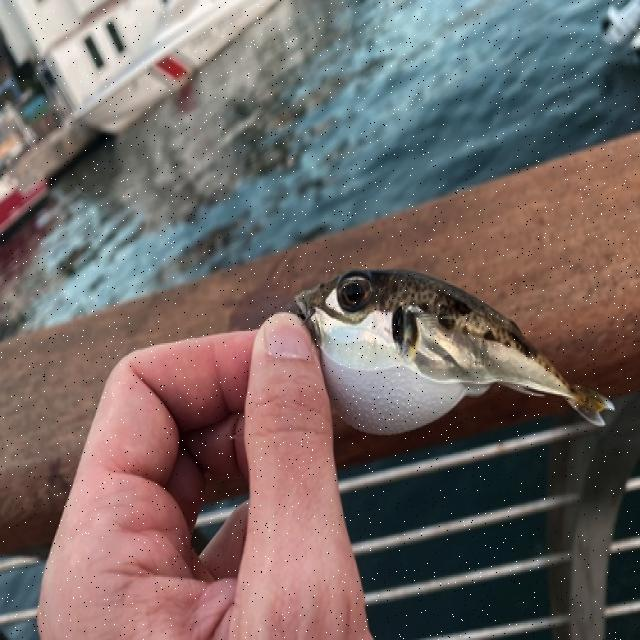Balik: (296, 270, 613, 433)
